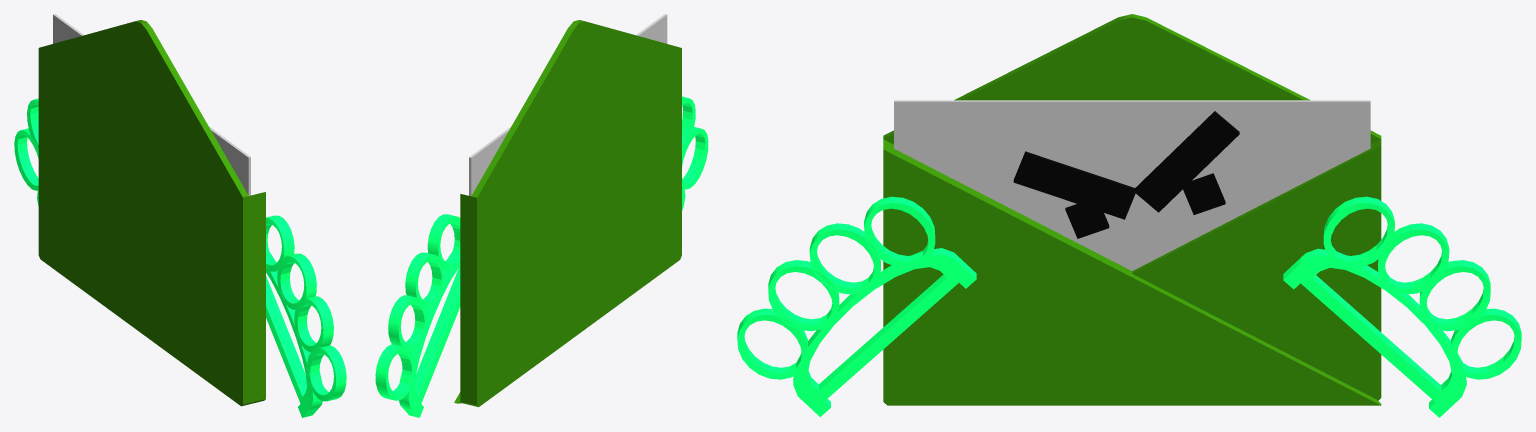
File: Lvl 2 Mail.fbx
3 renders of one model, left to right at view 1: azimuth 30°, elevation 25°; view 2: azimuth 150°, elevation 25°; view 3: azimuth 270°, elevation 25°, orthographic. The views are drawn at different scales.
Visible parts, largest first — view 1: Mail_Troop_; view 2: Mail_Troop_; view 3: Mail_Troop_.
Boxes of the visible parts, <box> form: Mail_Troop_: <box>14,14,346,417</box>; Mail_Troop_: <box>375,14,708,417</box>; Mail_Troop_: <box>737,14,1521,417</box>.
Size of the model in its own units: 0.1379 by 0.9255 by 1.74.
